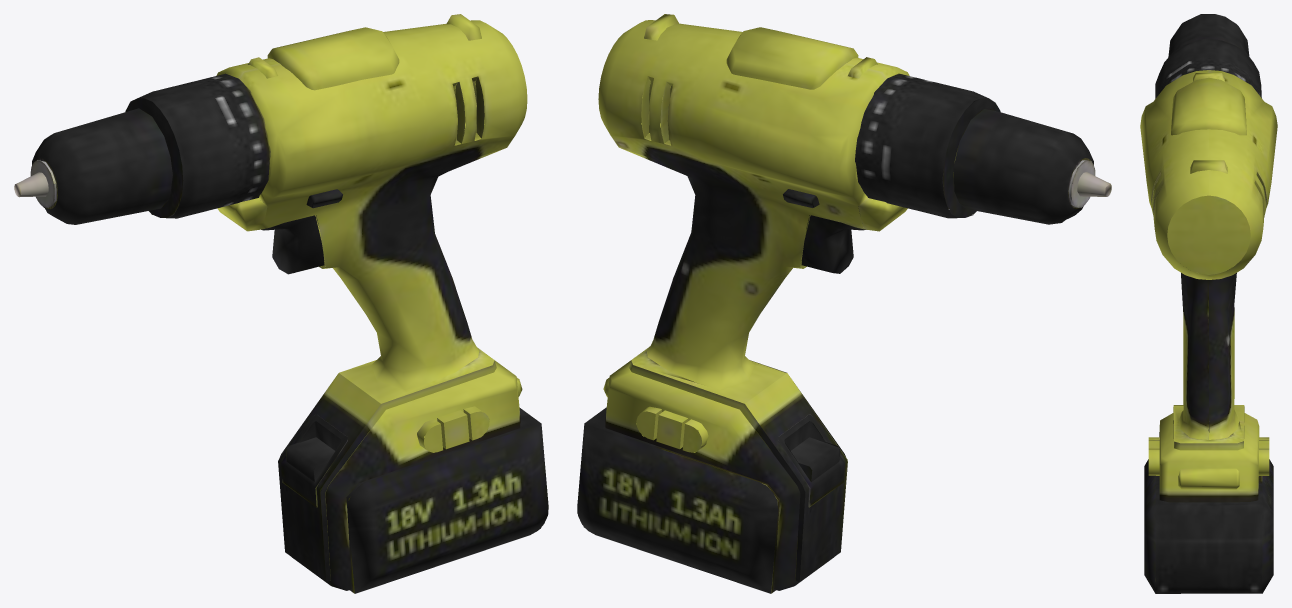
File: drill.glb
The picture shows the model from 3 angles, left to right: view 1: azimuth 30°, elevation 25°; view 2: azimuth 150°, elevation 25°; view 3: azimuth 270°, elevation 25°; orthographic projection. The views are drawn at different scales.
Visible parts, largest first — view 1: Drill_01; view 2: Drill_01; view 3: Drill_01.
Part boxes in pixels (bbox=[...]): Drill_01: bbox=[14, 14, 548, 593]; Drill_01: bbox=[577, 14, 1111, 593]; Drill_01: bbox=[1140, 14, 1277, 593].
Size of the model in its own units: 0.1829 by 0.1851 by 0.0522.
Materials: 1 (1 with a texture image).
